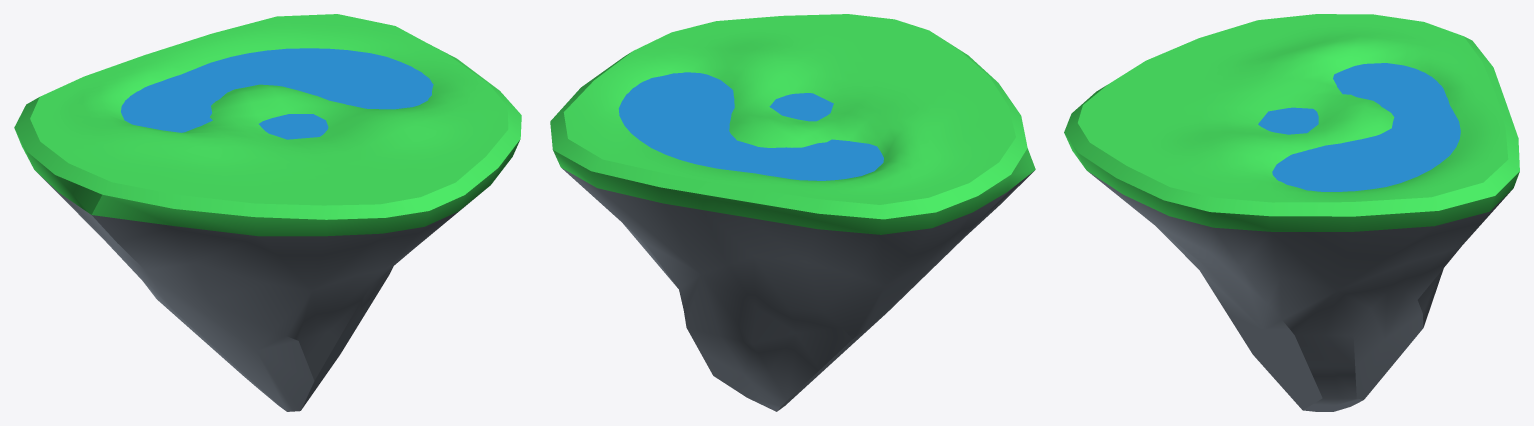
The model's file is island_01_water 1.fbx.
3 renders of one model, left to right at view 1: azimuth 30°, elevation 25°; view 2: azimuth 150°, elevation 25°; view 3: azimuth 270°, elevation 25°, orthographic. The views are drawn at different scales.
Visible parts, largest first — view 1: Cube.149; view 2: Cube.149; view 3: Cube.149.
Part boxes in pixels (bbox=[...]): Cube.149: bbox=[14, 14, 521, 411]; Cube.149: bbox=[550, 14, 1035, 411]; Cube.149: bbox=[1064, 14, 1519, 411].
Bounding box in the file's own units: 3769 × 2646 × 3634.
